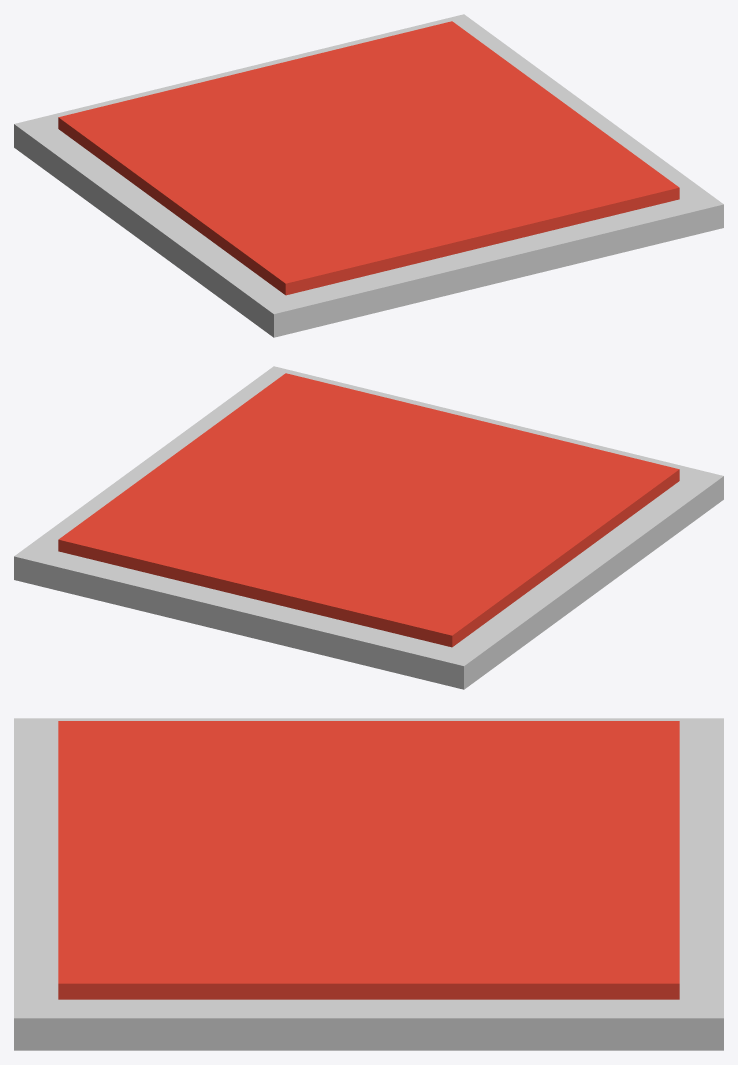
The model's file is Switch_All.fbx.
3 views of the same model, one above another, from view 1: azimuth 30°, elevation 25°; view 2: azimuth 150°, elevation 25°; view 3: azimuth 270°, elevation 25° (orthographic). The views are drawn at different scales.
Parts seen in each view (by area): view 1: Box003, Box001; view 2: Box003, Box001; view 3: Box003, Box001.
Boxes of the visible parts, x1,y1,x2,y2 form: Box003: [58, 21, 679, 295]; Box001: [14, 14, 723, 337]; Box003: [58, 373, 679, 647]; Box001: [14, 366, 723, 689]; Box003: [58, 721, 679, 999]; Box001: [14, 718, 723, 1050].
Size of the model in its own units: 40 by 40 by 3.
2 materials, 2 textured.
